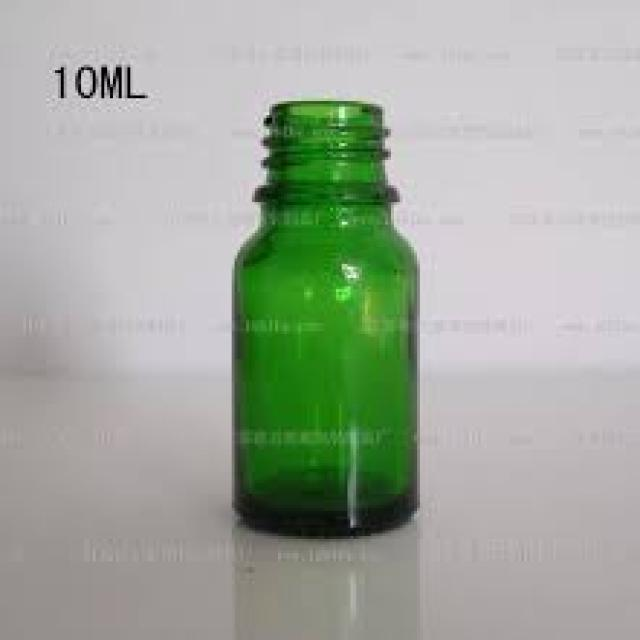glass: (229, 99, 420, 534)
